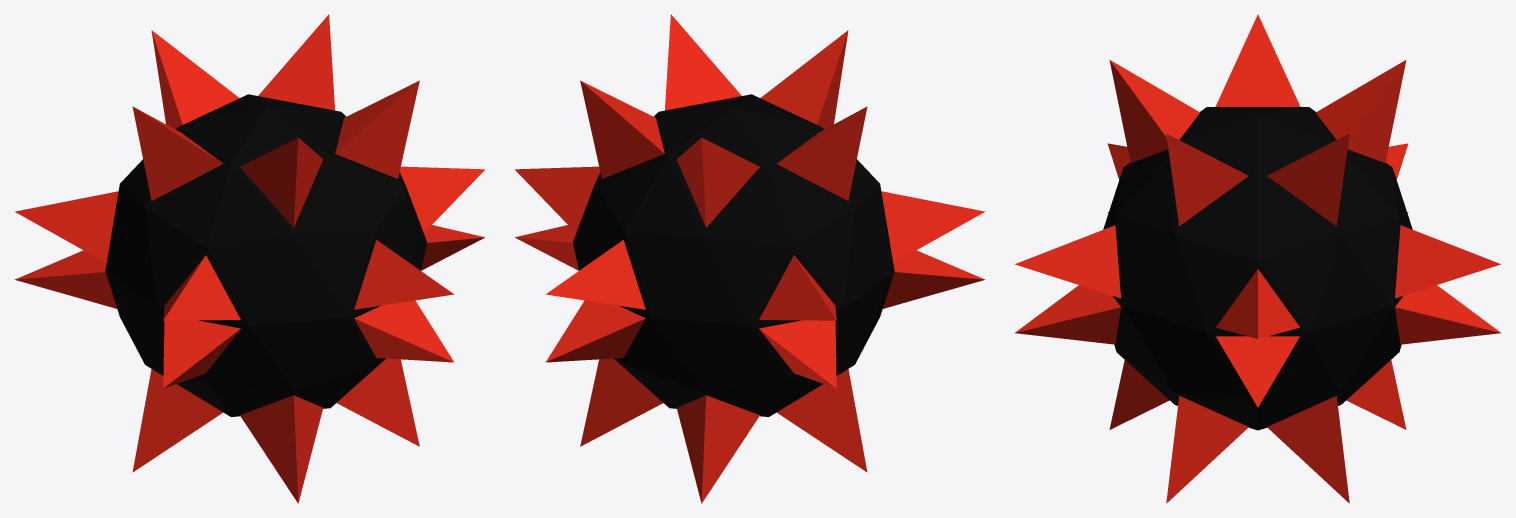
File: mine.fbx
The picture shows the model from 3 angles, left to right: view 1: azimuth 30°, elevation 25°; view 2: azimuth 150°, elevation 25°; view 3: azimuth 270°, elevation 25°; orthographic projection.
Parts seen in each view (by area): view 1: Icosphere; view 2: Icosphere; view 3: Icosphere.
Part boxes in pixels (x1,y1,x2,y2): Icosphere: [15, 14, 484, 503]; Icosphere: [515, 14, 984, 503]; Icosphere: [1015, 14, 1500, 503].
Bounding box in the file's own units: 278 × 293 × 246.
